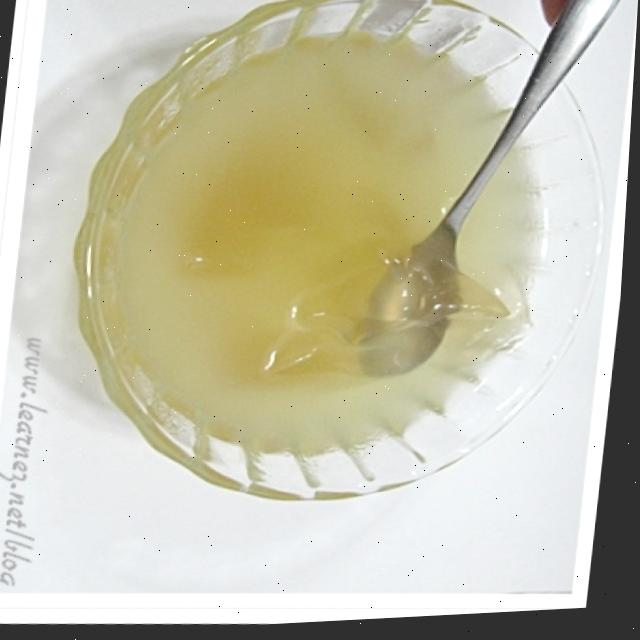蛋糕甜品: (62, 0, 608, 535)
